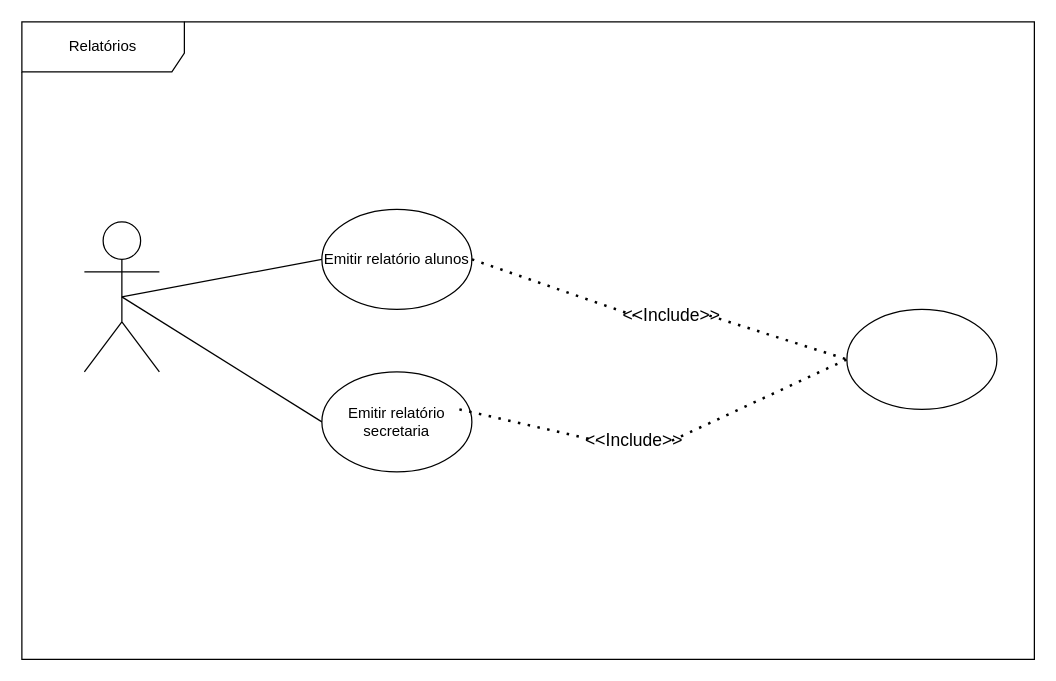
The diagram is 1056 pixels wide and 681 high, and some of its shapes have lost their labels. Here are the shapes that lost their labels. From the top down, the centre of each, then its label:
At point 121,296: "Actor".
At point 921,358: "Fazer login".
